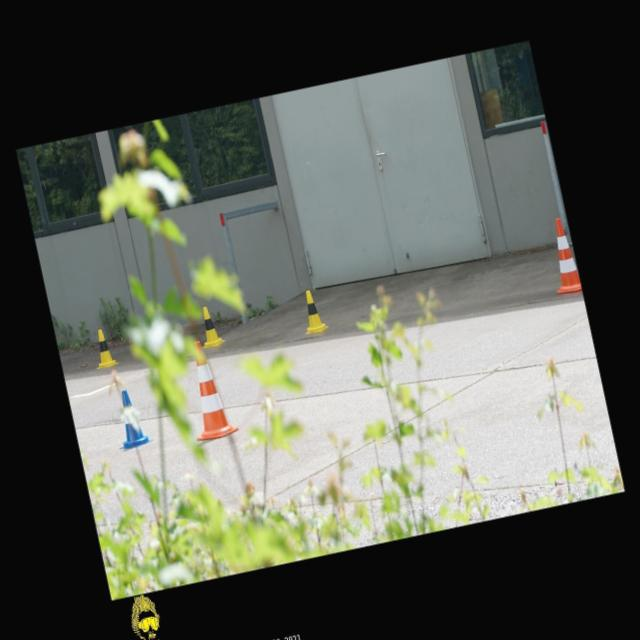blue_cone: (108, 386, 152, 449)
large_orange_cone: (178, 336, 239, 441), (542, 216, 582, 296)
yellow_cone: (296, 288, 329, 336), (195, 304, 225, 348), (88, 326, 118, 368)
